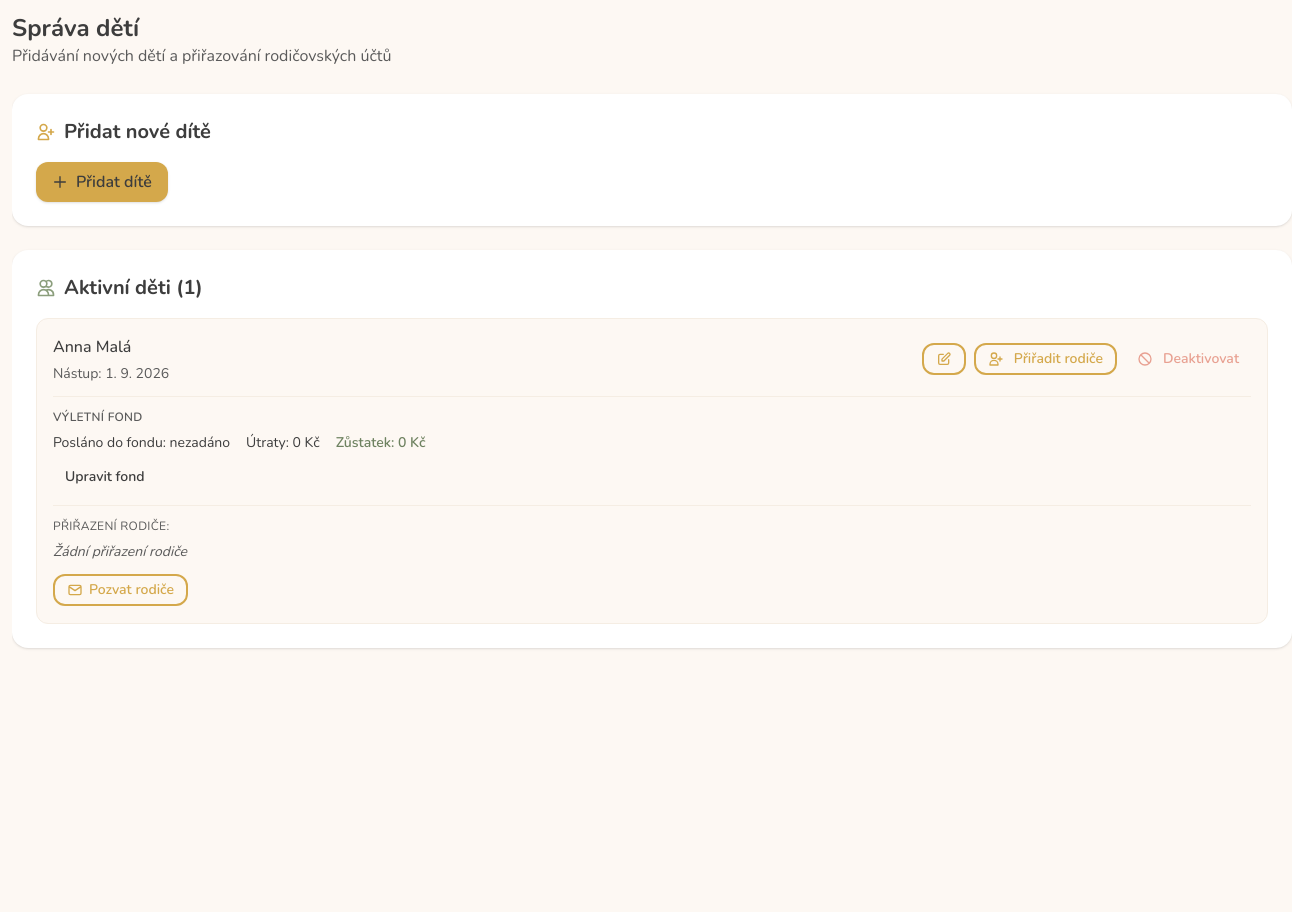
Test case: ChildrenManagementPage › allows the director to correct a child's start date
Click the button named "Upravit Anna Malá".
click(944, 359)  # box [922, 343, 966, 375]
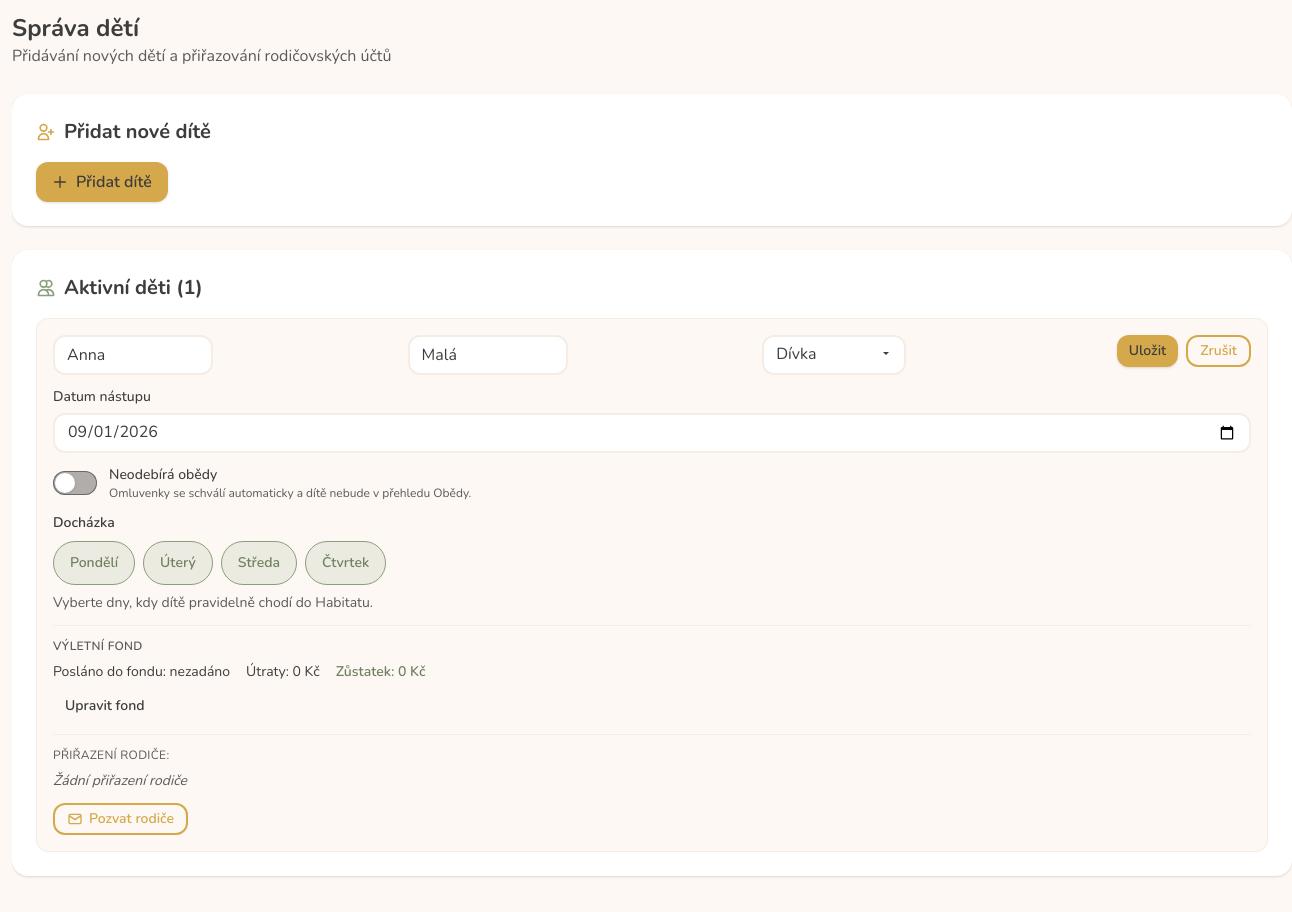
Type "2026-10-13" into the date field labelled "Datum nástupu".
click(652, 433); type("2026-10-13")  # box [53, 413, 1251, 453]
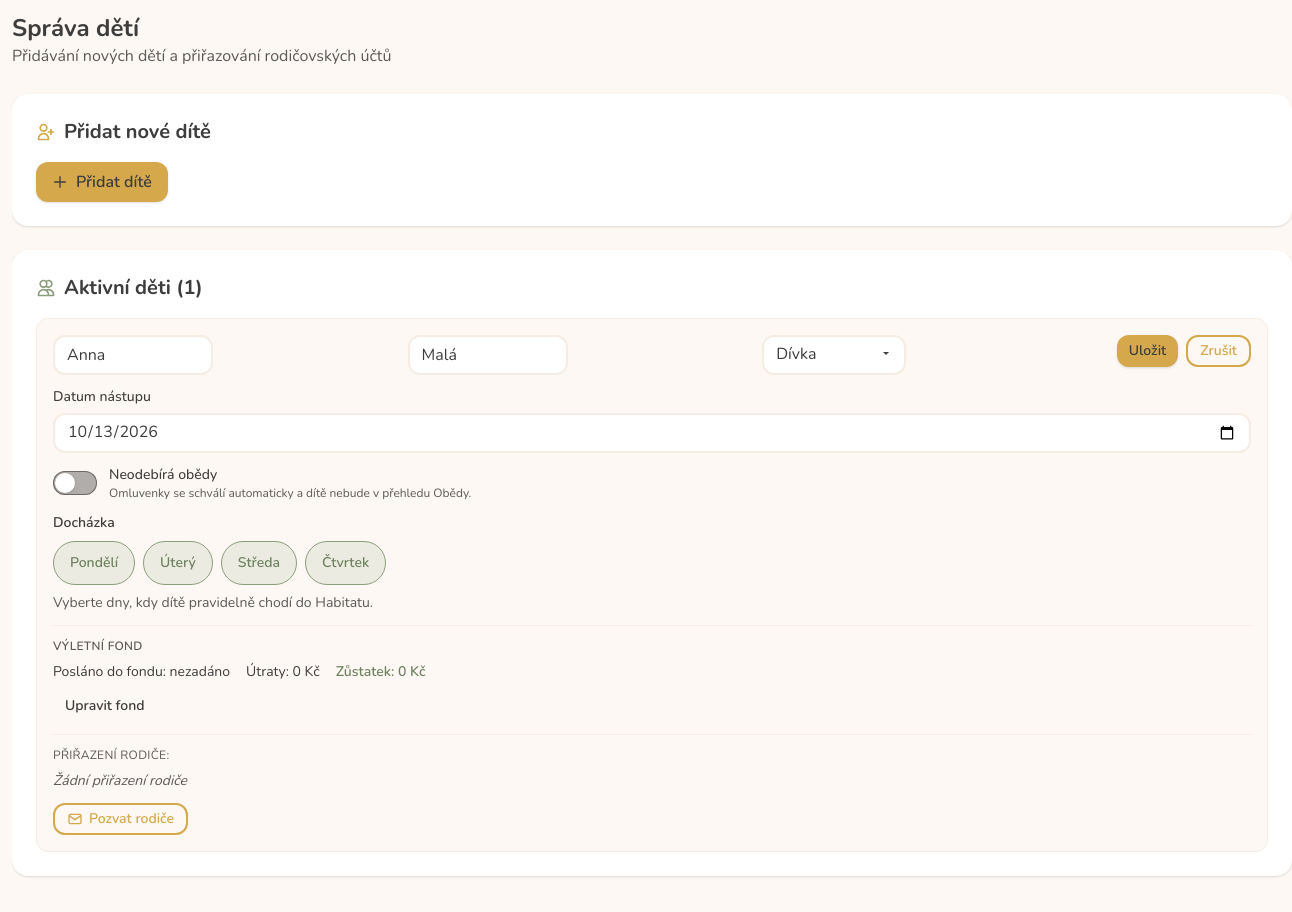
Click the button "Uložit".
click(1147, 351)  # box [1117, 335, 1178, 367]
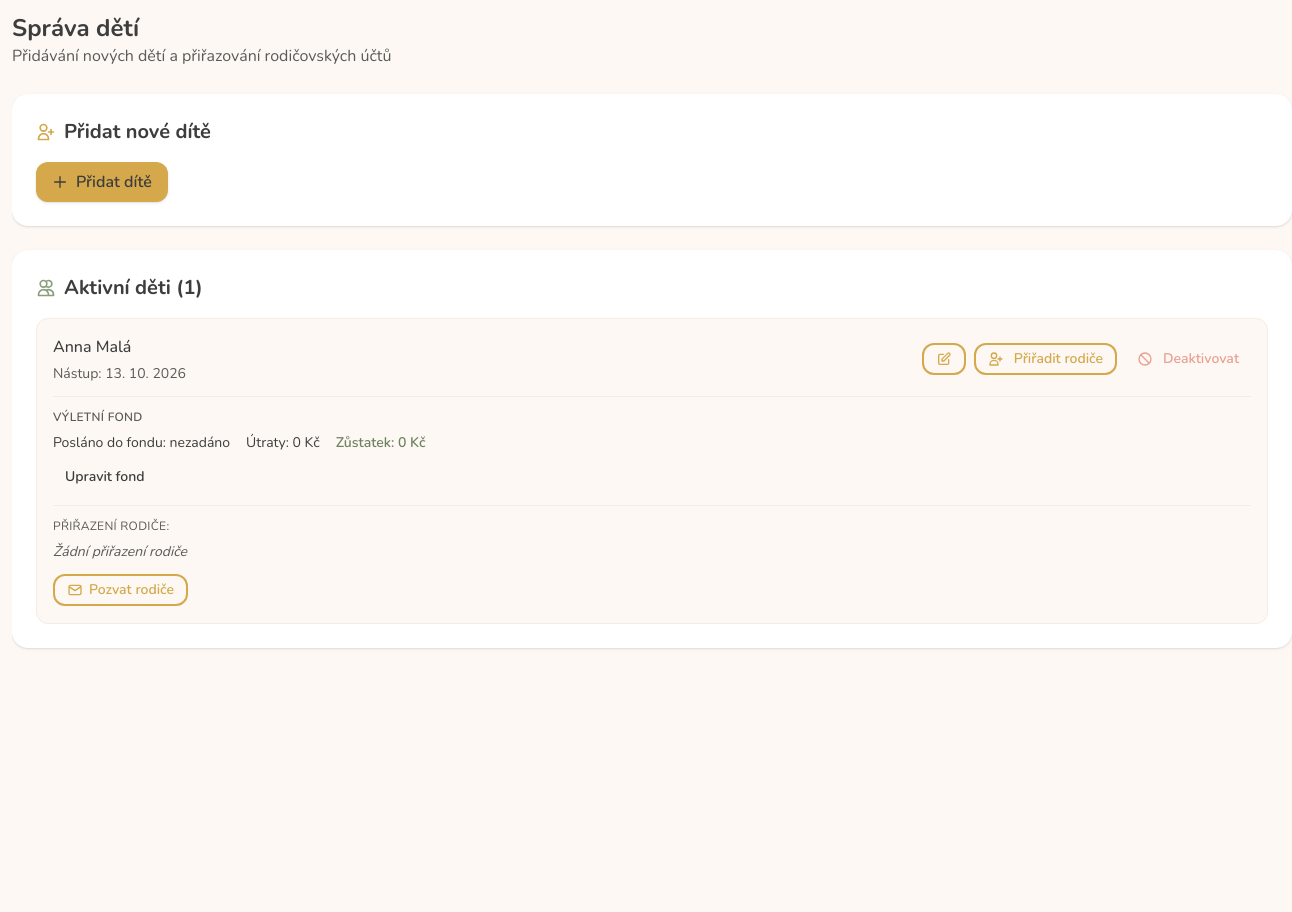
Result: the text "Nástup: 13. 10. 2026" is shown at [53, 364, 186, 383]
